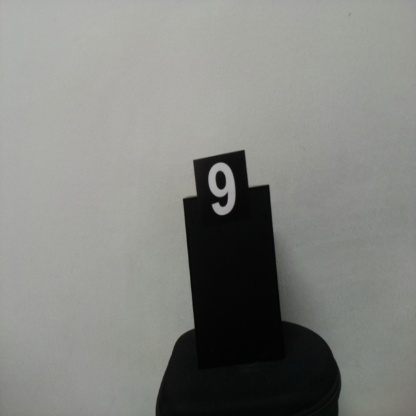id_9: (193, 161, 250, 235)
